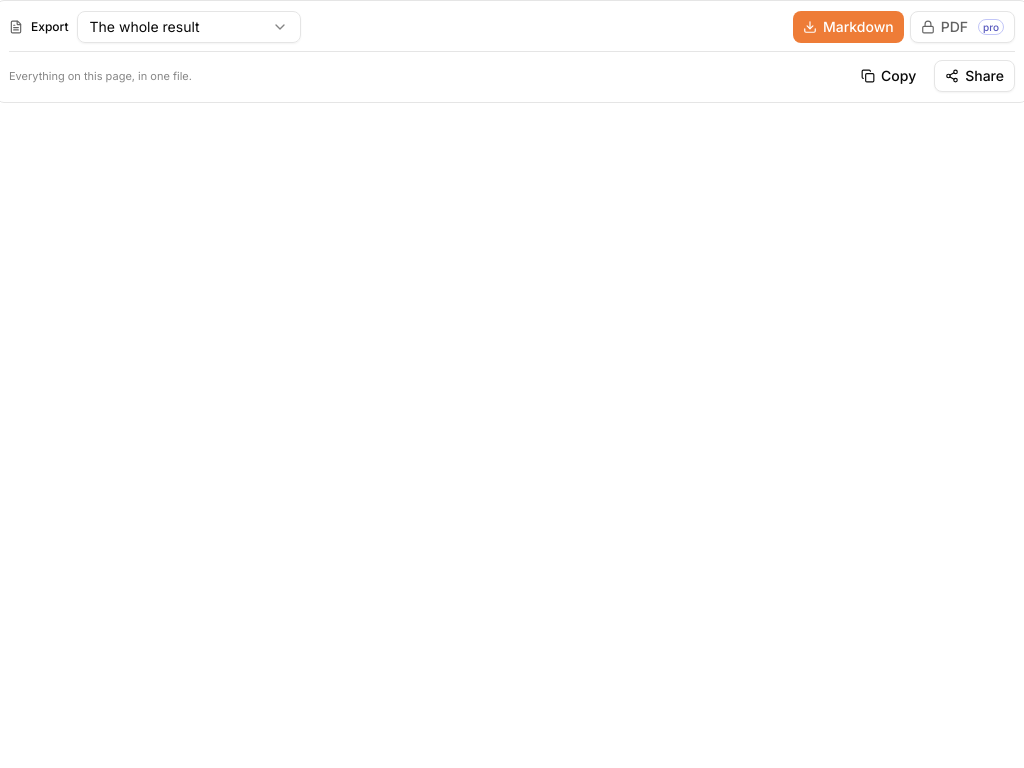
Test case: opens the upgrade dialog instead of failing silently
This screenshot has width=1024, height=768.
Click the button with aria-label "Export as PDF" at {"x": 962, "y": 27}, box [910, 11, 1015, 43]
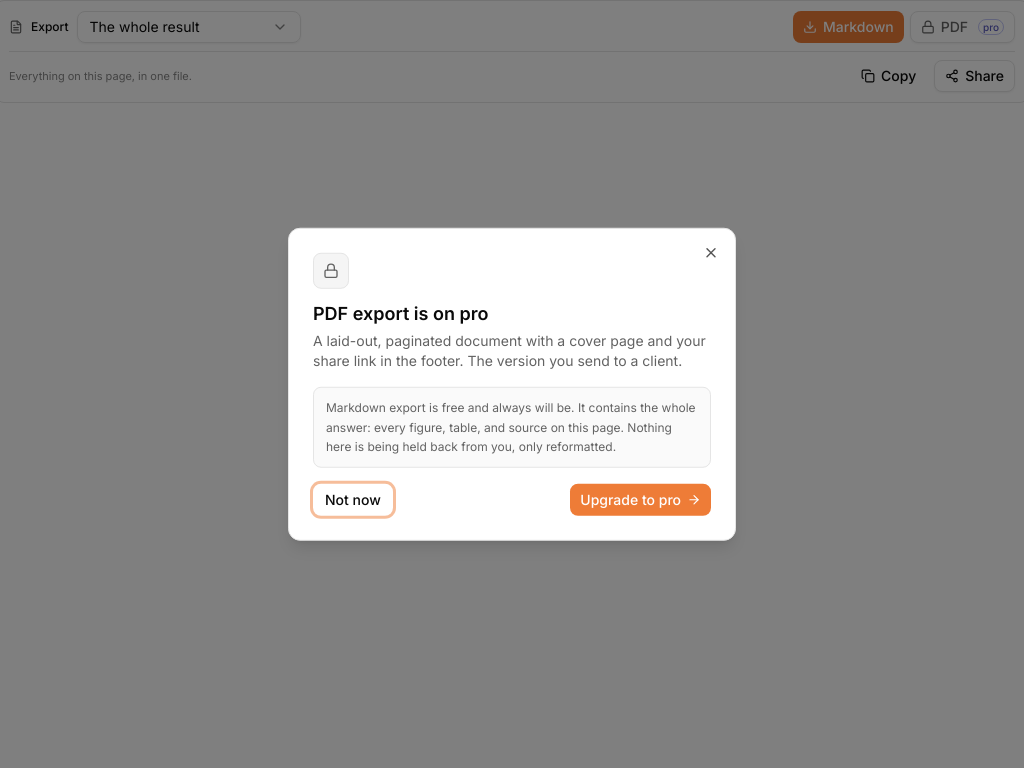
Expected: the dialog shows "PDF export is on pro", [288, 228, 736, 540]
